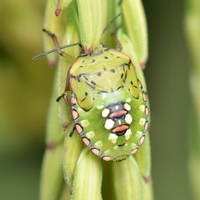insect: (34, 13, 148, 160)
